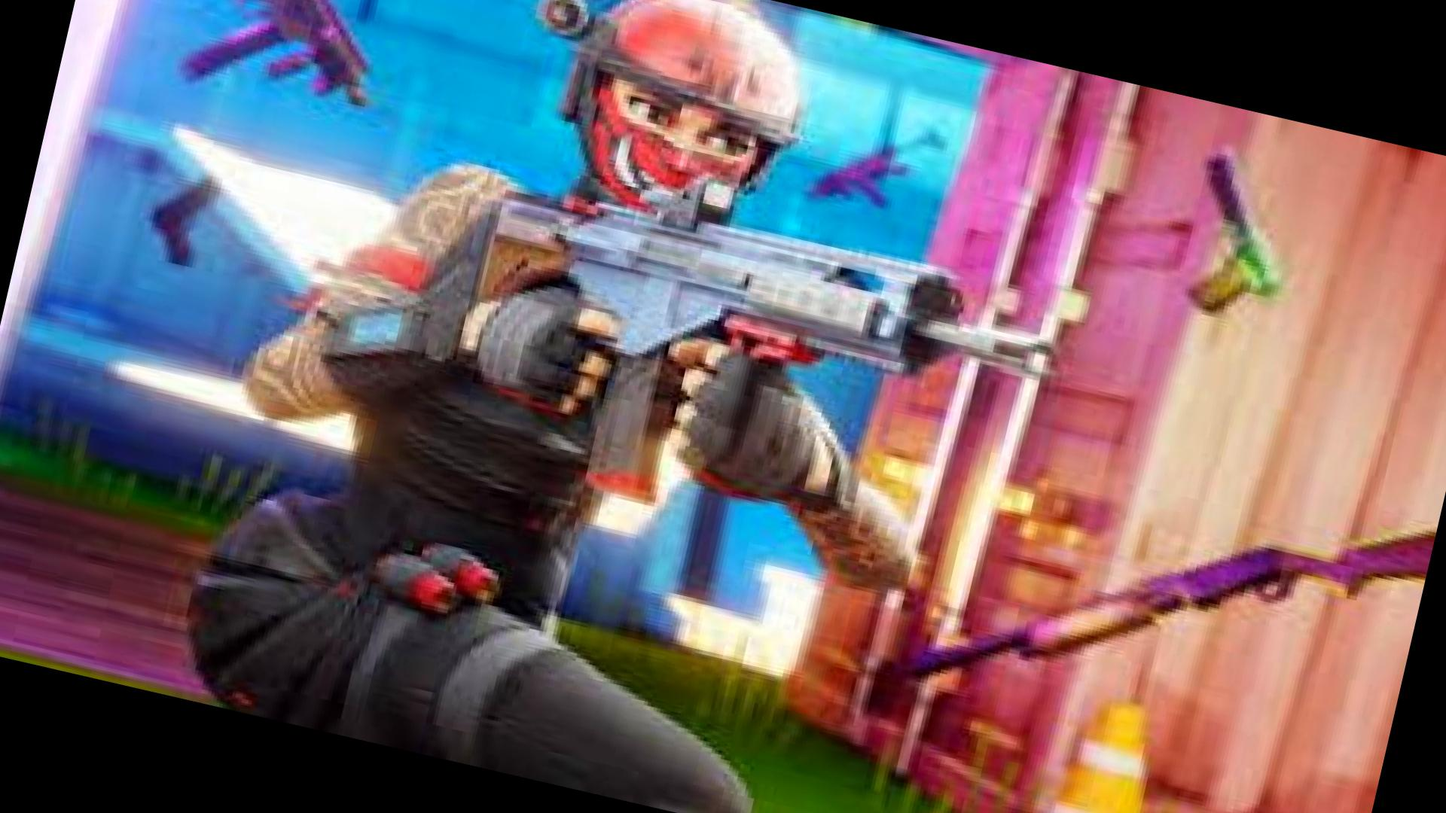player: (215, 0, 840, 810)
